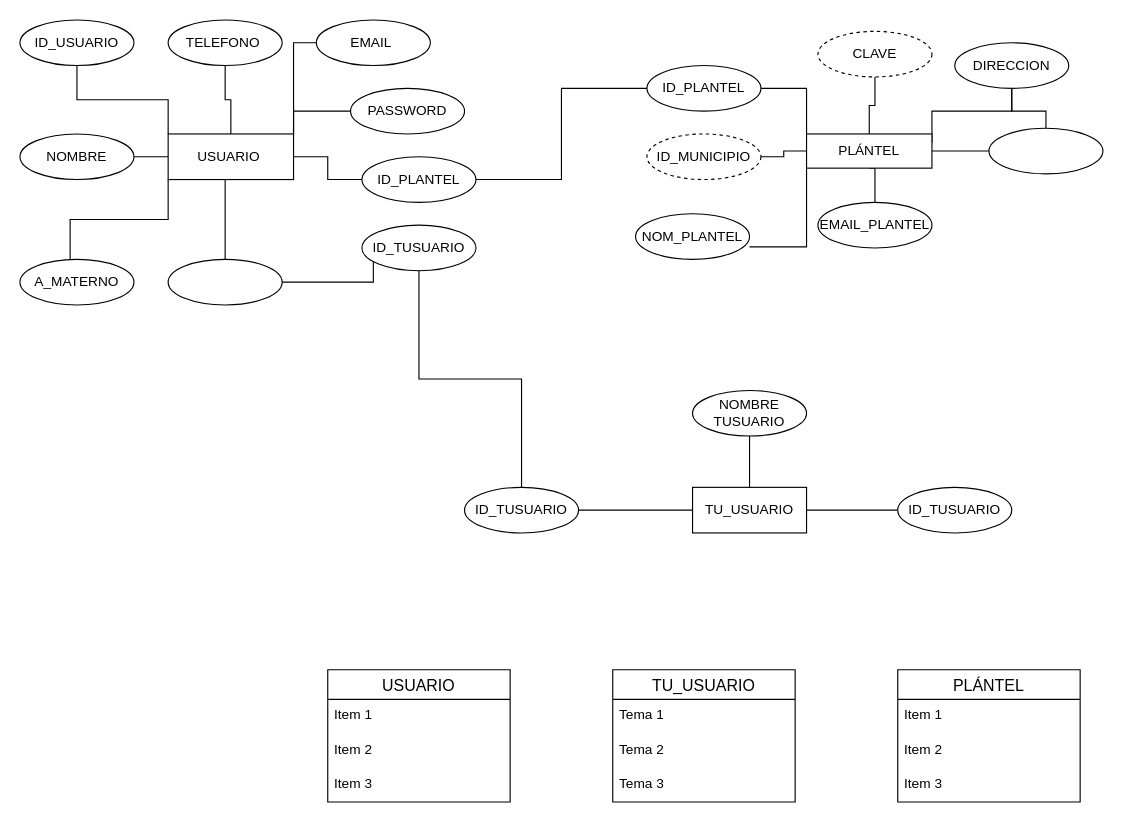
Some shapes in this 1137 by 825 pixel diagram are drawn without their labels. The shapes that lost their labels are listed below. From the top down, each one's centre as x and y in pixels, then its label:
(1045,150): TELEFONO_PLANTEL
(224,281): A_PATERNO
